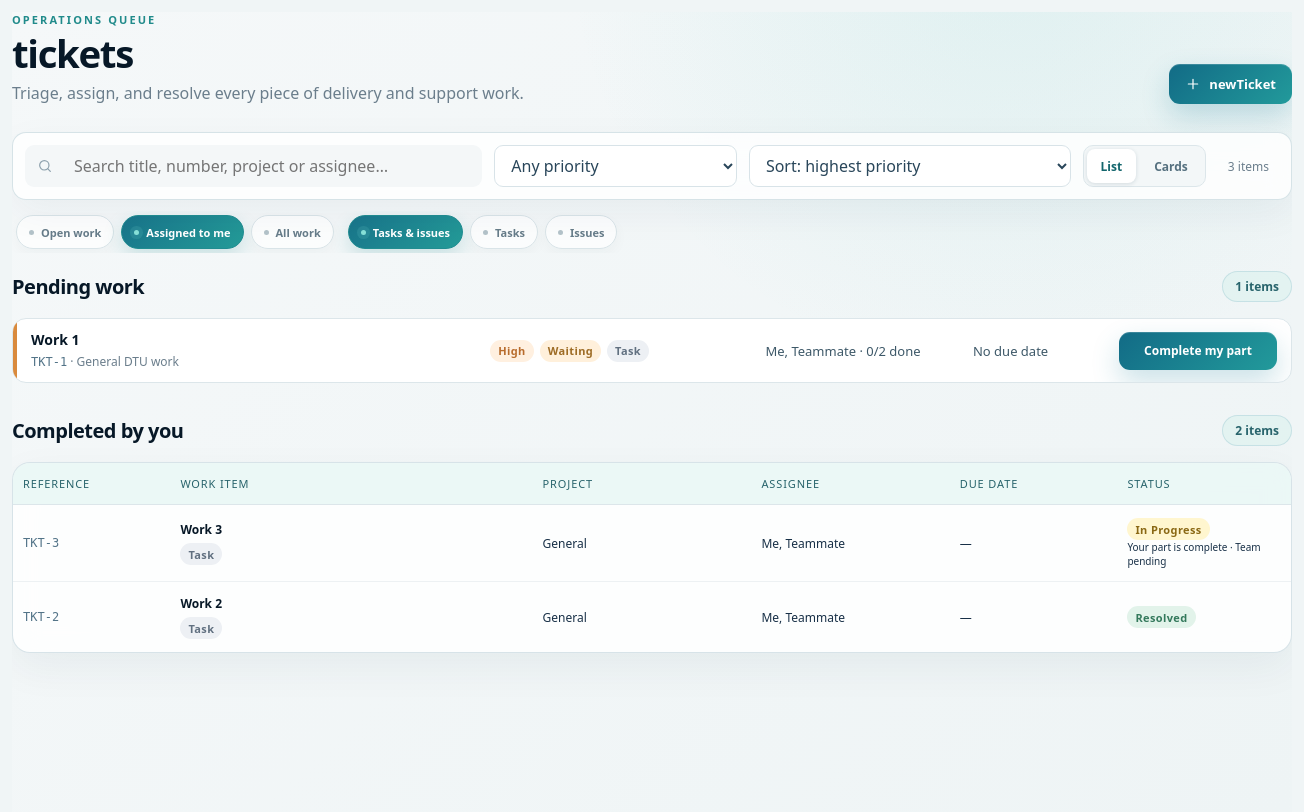
Test: keeps shared work pending in the all-work view until the team finishes
Click the button "All work".
click(292, 232)  # box top-left (250, 215), bottom-right (334, 249)
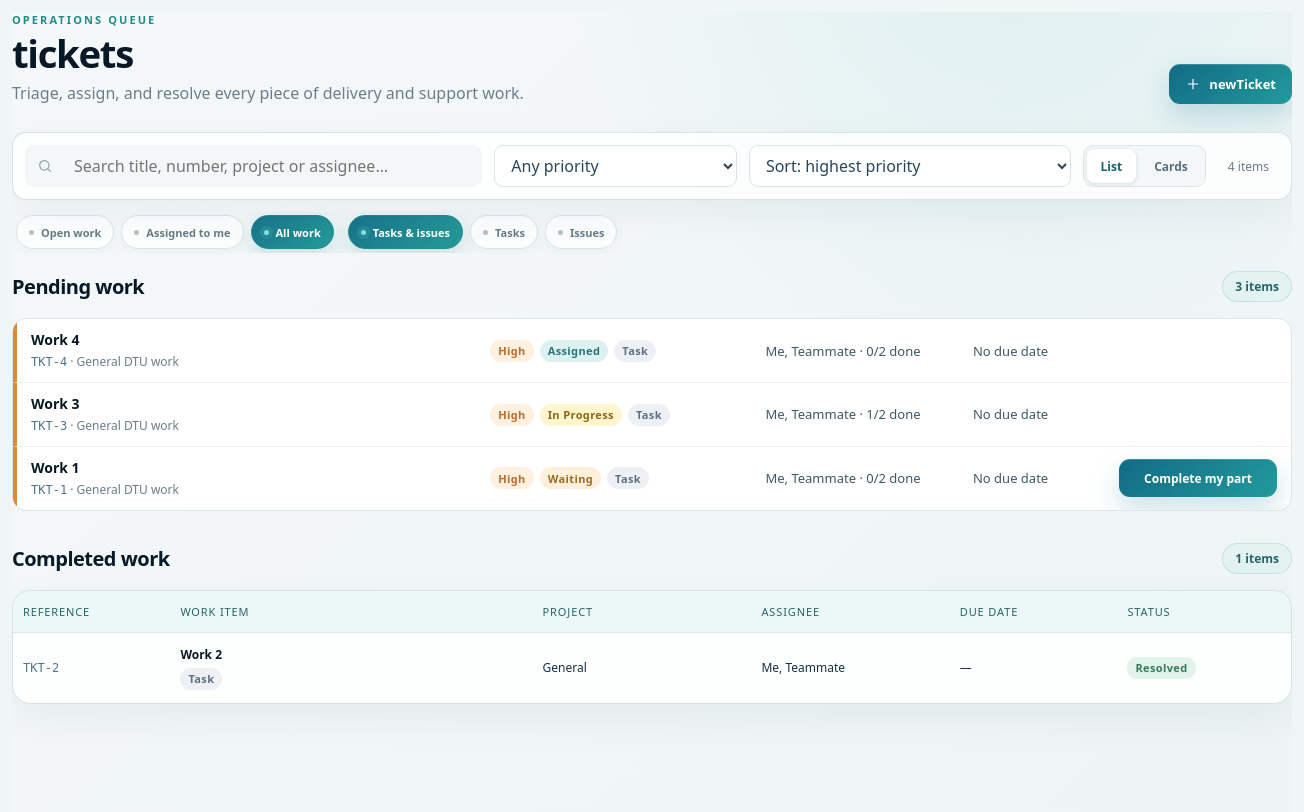
Expected: the number of list items with class "work-list-row" is 3, top-left (13, 319), bottom-right (1291, 383); top-left (13, 383), bottom-right (1291, 447); top-left (13, 447), bottom-right (1291, 510)
Expected: the number of links with class "table-row" is 1, top-left (13, 633), bottom-right (1291, 703)
